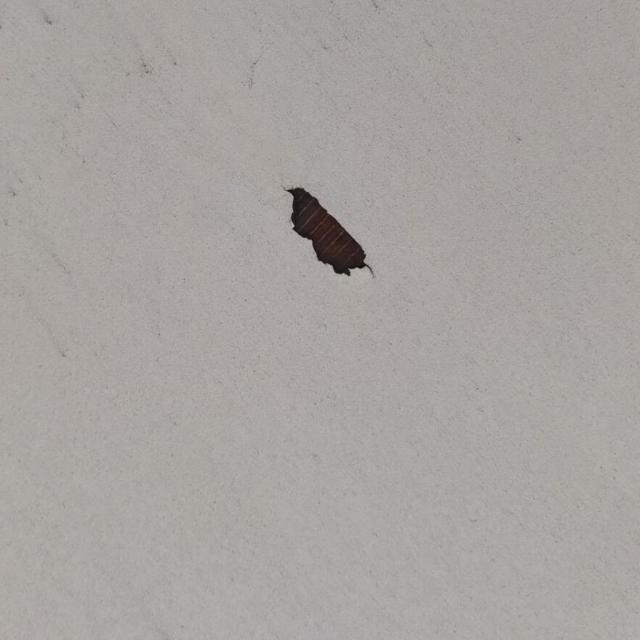surface_peeling: (280, 175, 379, 283)
